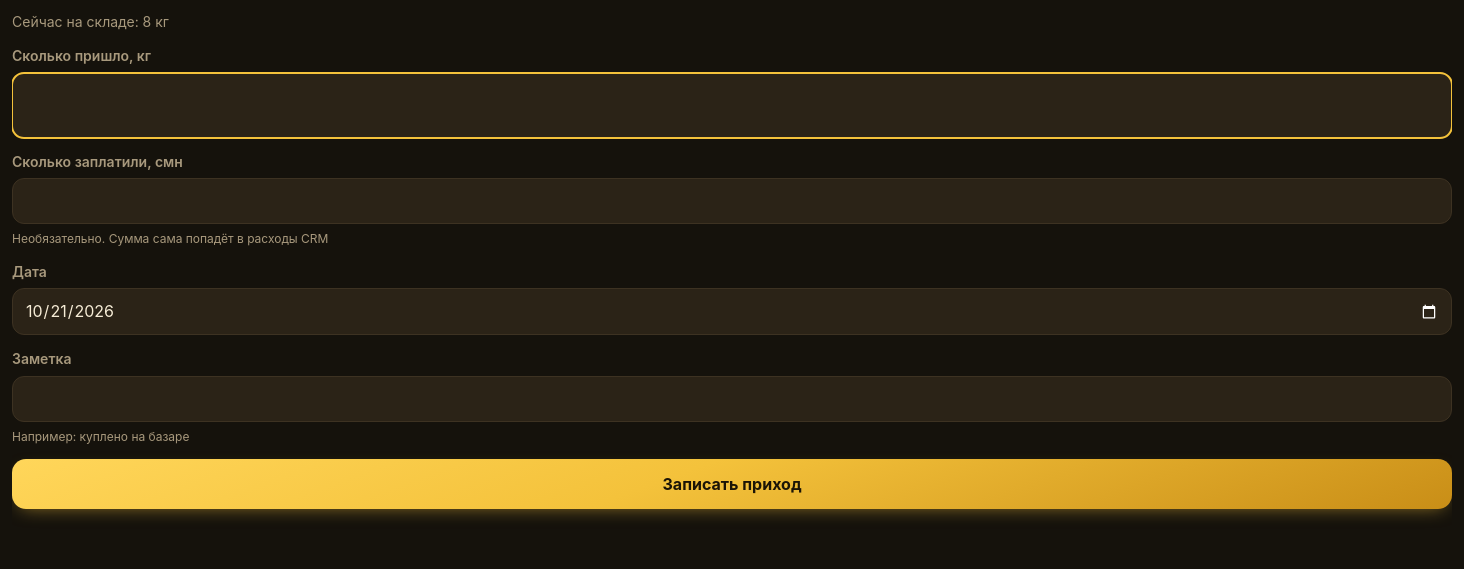
it: Receipt with a price › sends the sum and shows the price per unit
This screenshot has width=1464, height=569.
Later steps or results of the test are not shown.
Type "50" into the field labelled "Сколько пришло, кг". click: (732, 105)
box: [12,73,1452,138]
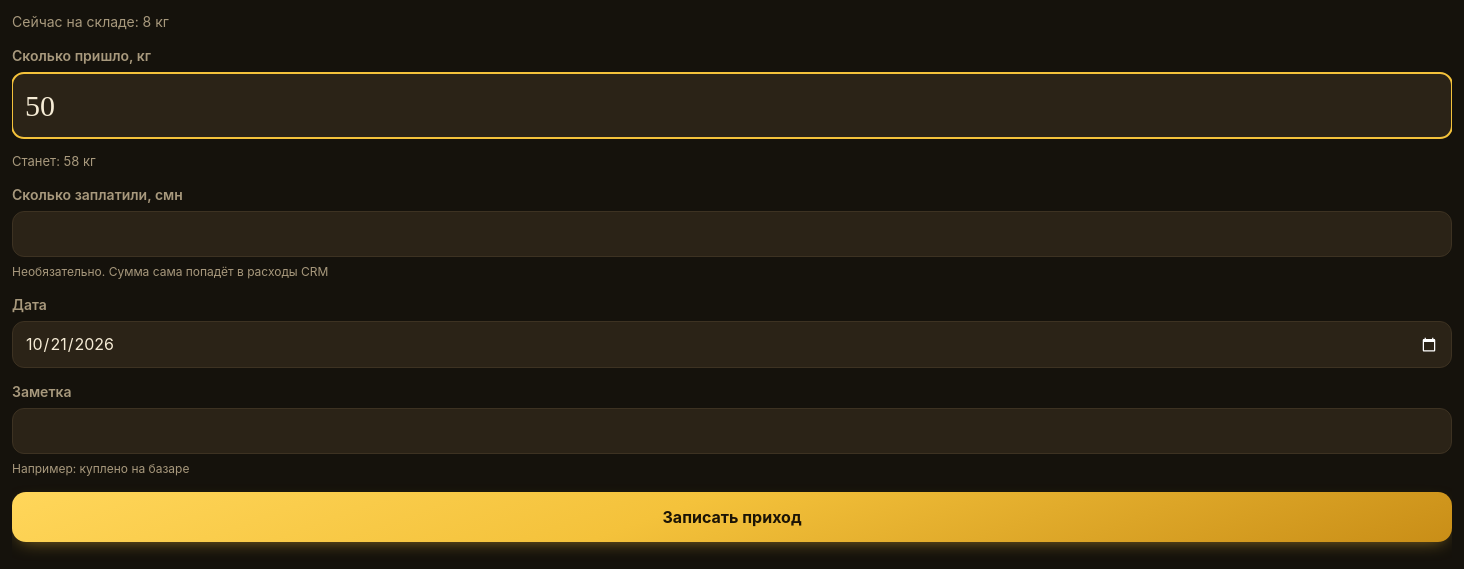
Type "650" into the field labelled "Сколько заплатили, смн". click: (732, 234)
box: [12,211,1452,257]
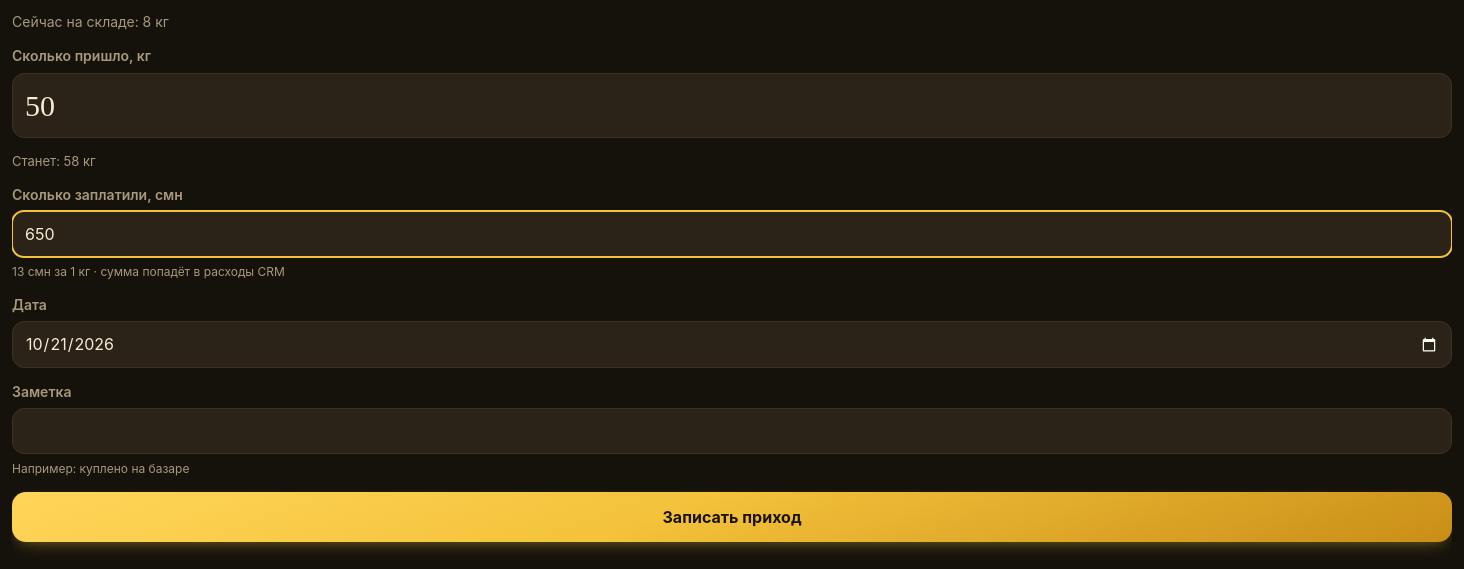
Result: the text "13 смн за 1 кг · сумма попадёт в расходы CRM" is shown at [12,264,285,279]
